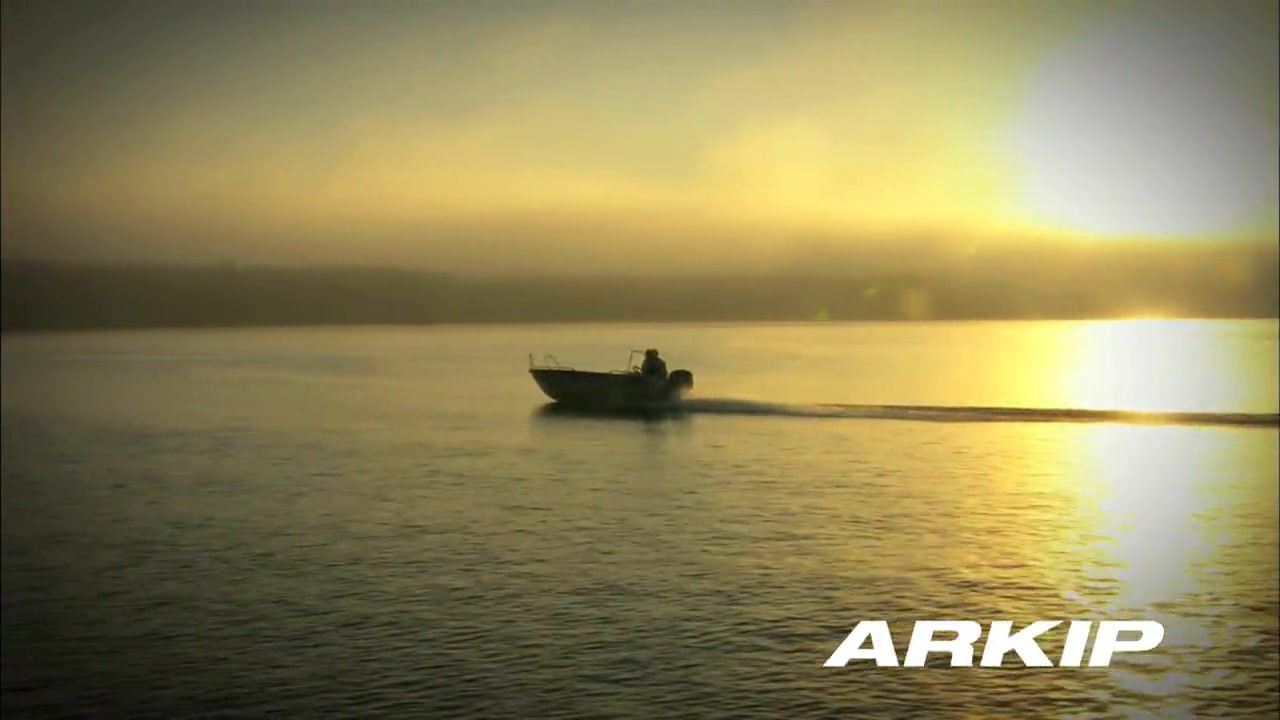boat: (527, 341, 699, 424)
